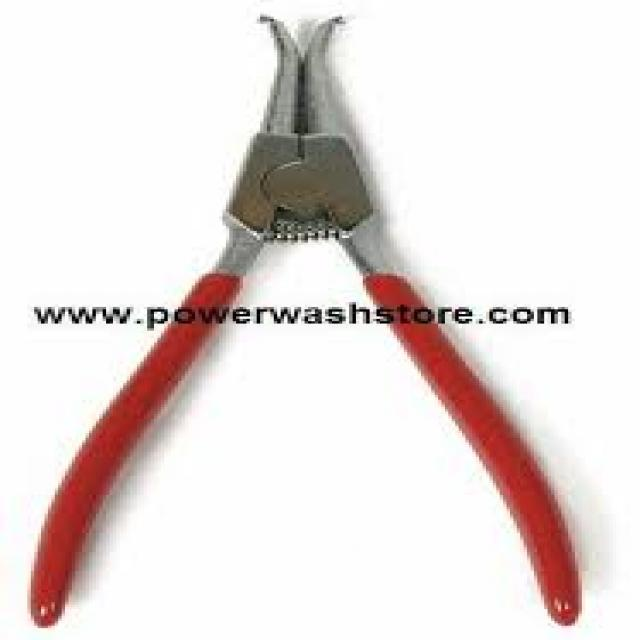pliers: (64, 9, 506, 540)
